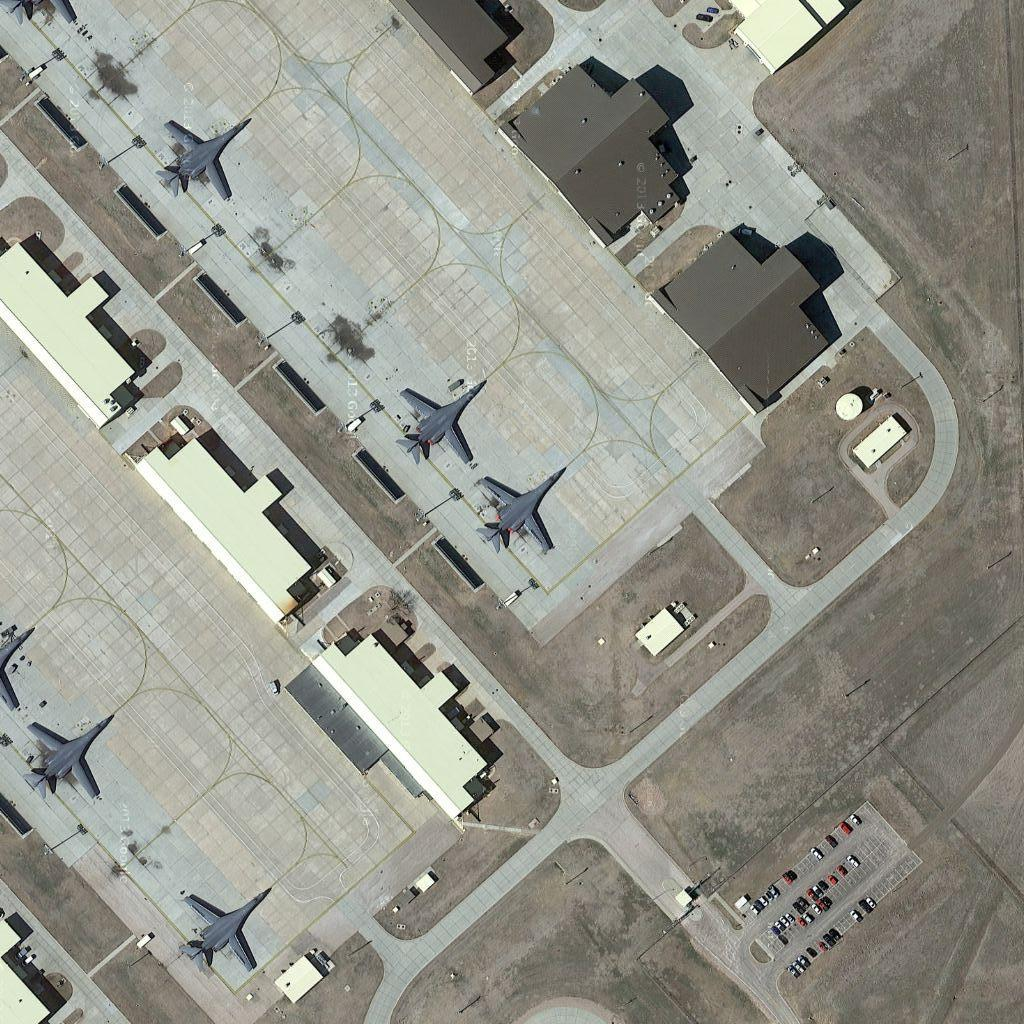B-1B: (26, 707, 124, 799), (479, 463, 572, 557), (180, 884, 277, 973), (399, 371, 490, 463), (159, 112, 254, 199)
